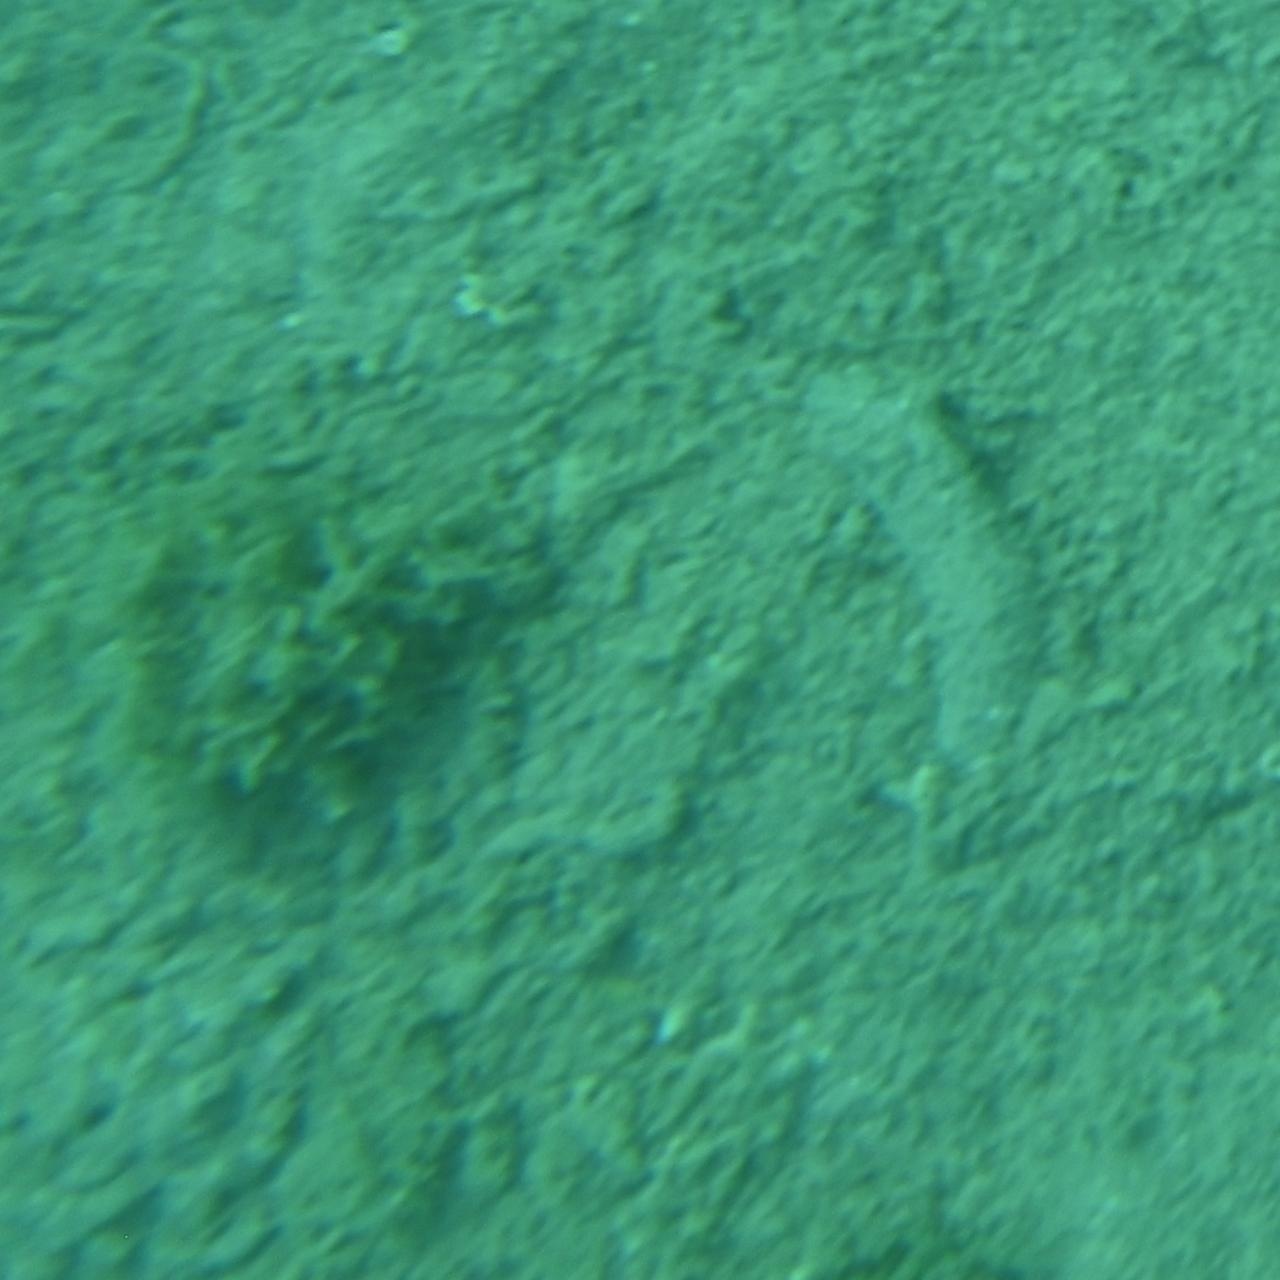Holothuria tubulosa: (803, 353, 1058, 890)
Phaeophyceae -cfr Cystoseira-: (136, 459, 565, 858)
